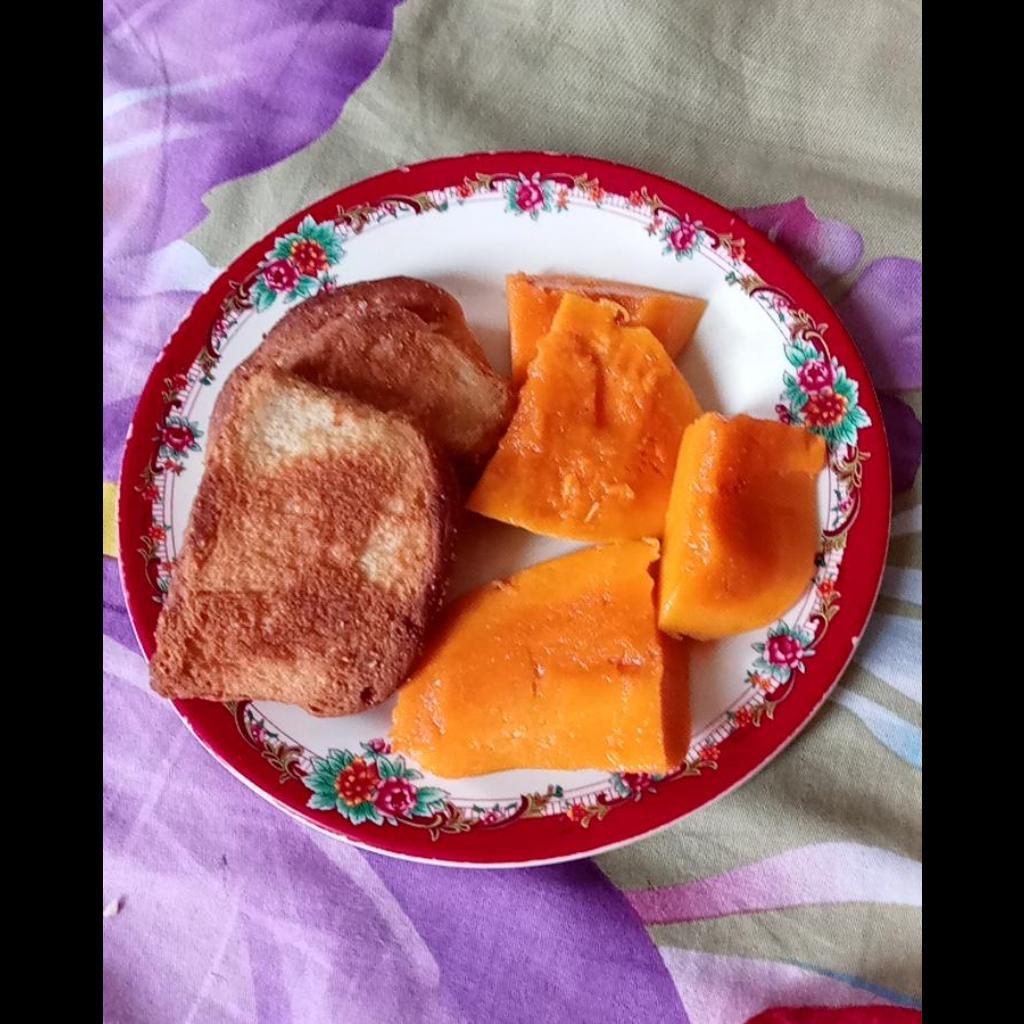bread: (151, 275, 510, 724)
mango: (395, 273, 832, 782)
